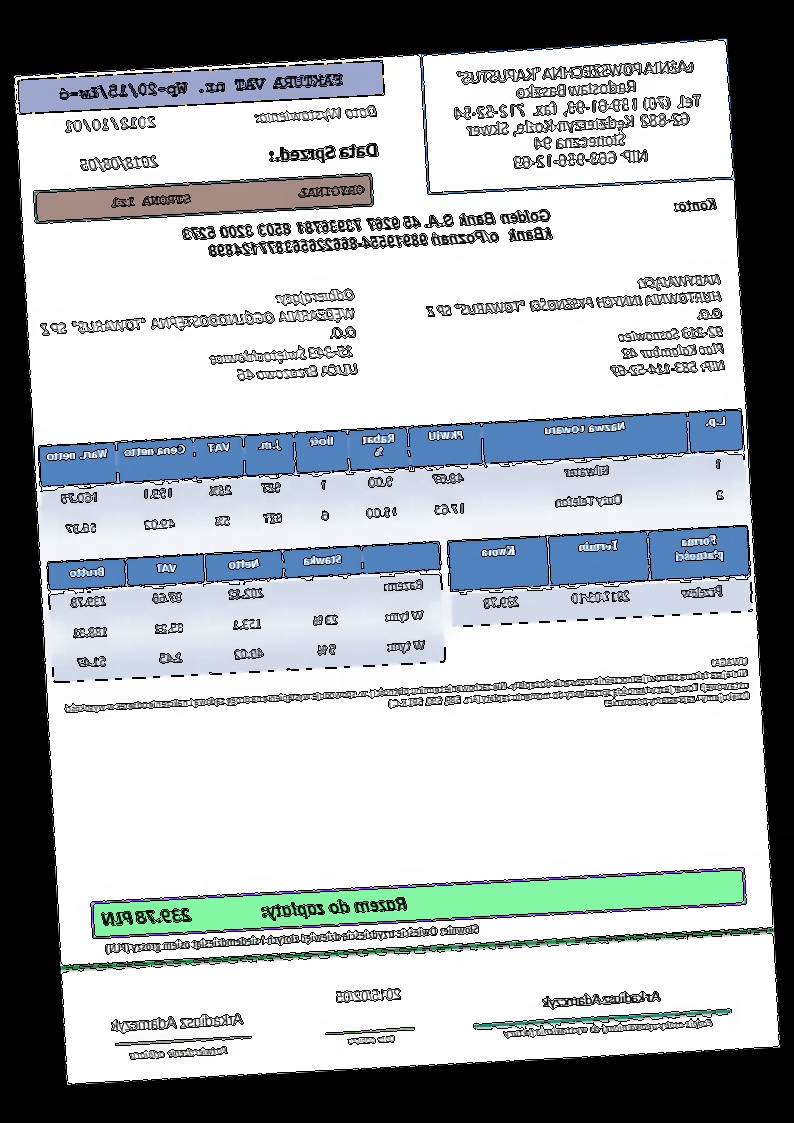Table: (38, 408, 749, 552), (46, 540, 447, 683), (446, 524, 755, 629)
TextBox: (63, 654, 752, 738), (422, 270, 728, 388), (38, 286, 361, 394), (450, 56, 707, 174), (180, 207, 555, 261), (105, 921, 482, 956), (99, 893, 410, 930), (56, 69, 345, 104), (110, 180, 368, 211), (501, 1015, 715, 1041), (108, 1011, 246, 1037), (252, 102, 379, 128), (267, 139, 381, 167), (540, 988, 663, 1011), (61, 114, 158, 137), (129, 1043, 231, 1062), (77, 153, 160, 173), (335, 985, 404, 1005), (674, 195, 718, 215), (348, 1032, 398, 1046)
